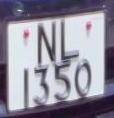0: (73, 57, 95, 101)
1: (19, 64, 36, 112)
3: (31, 64, 54, 106)
5: (50, 60, 75, 106)
L: (57, 16, 83, 65)
N: (35, 18, 60, 70)
